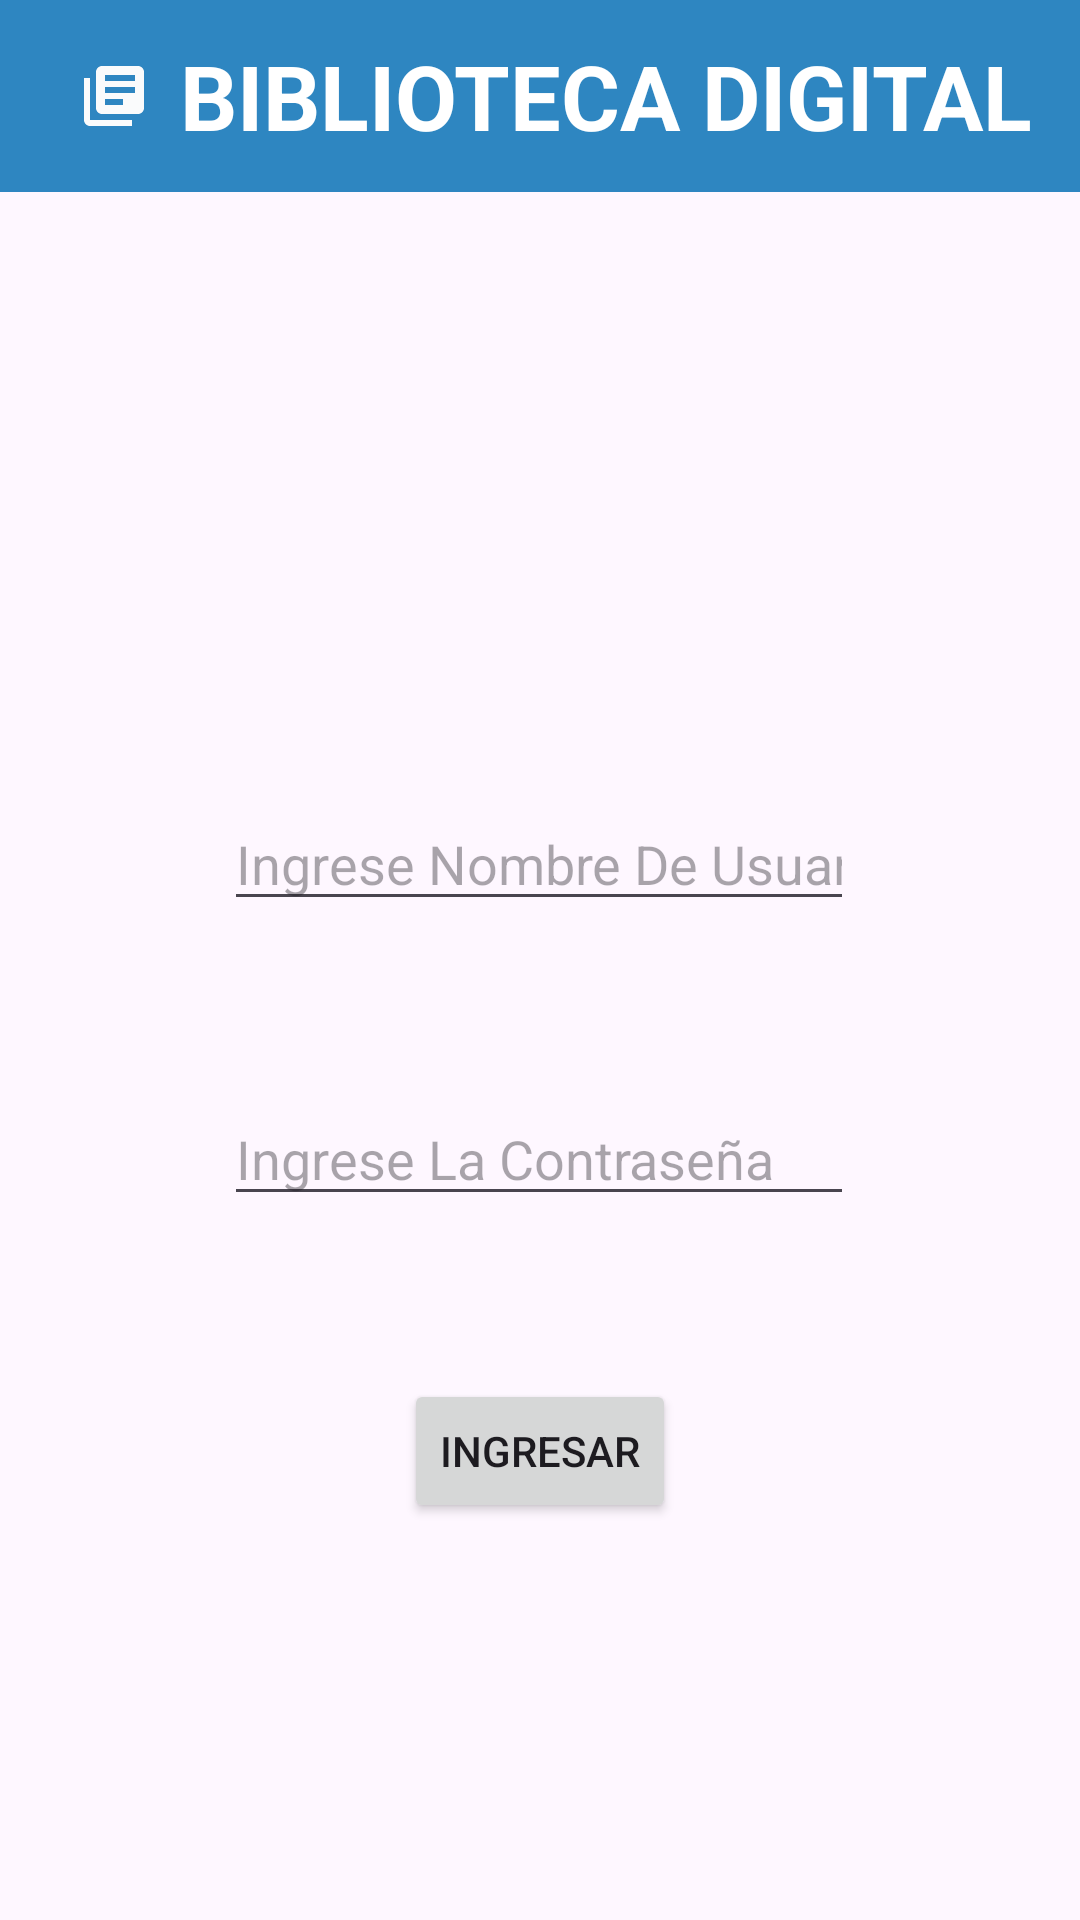

Point at icon controls on the screen. Image size 1080×1920, points as [x,y].
library books: [114,96]
